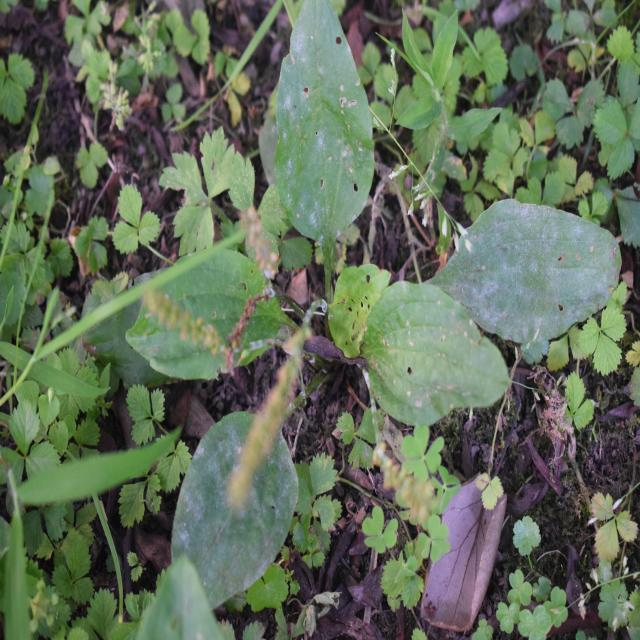plantain: (146, 68, 580, 570)
